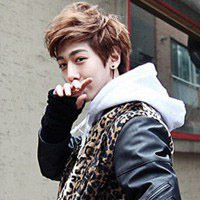face: (55, 35, 106, 101)
